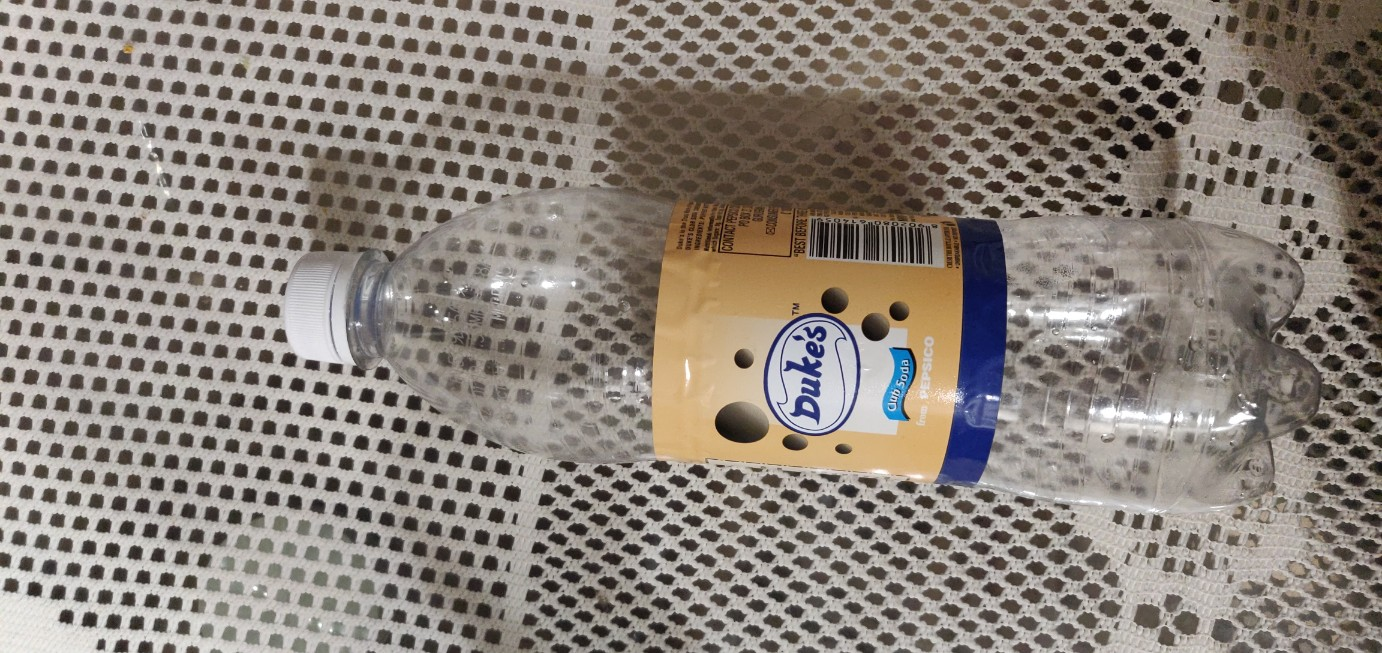Electronics: (254, 170, 1335, 538)
